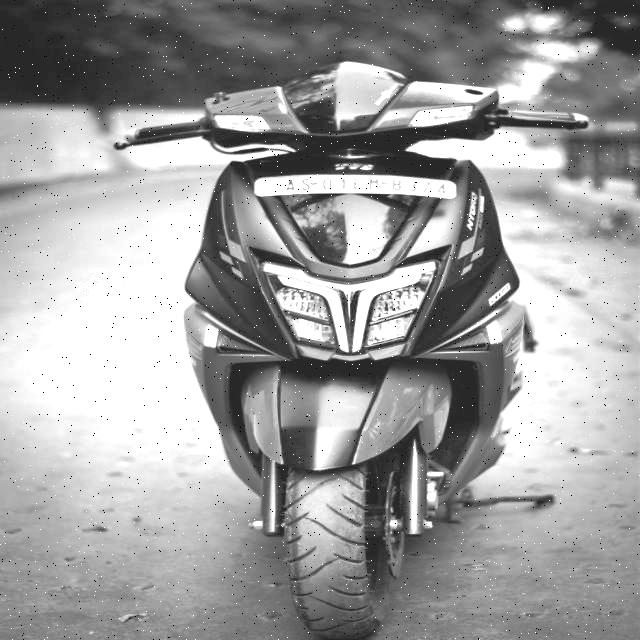Bike: (134, 81, 573, 615)
